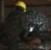hard-hat: (0, 0, 26, 25)
ppe-suit: (0, 0, 1, 2)
